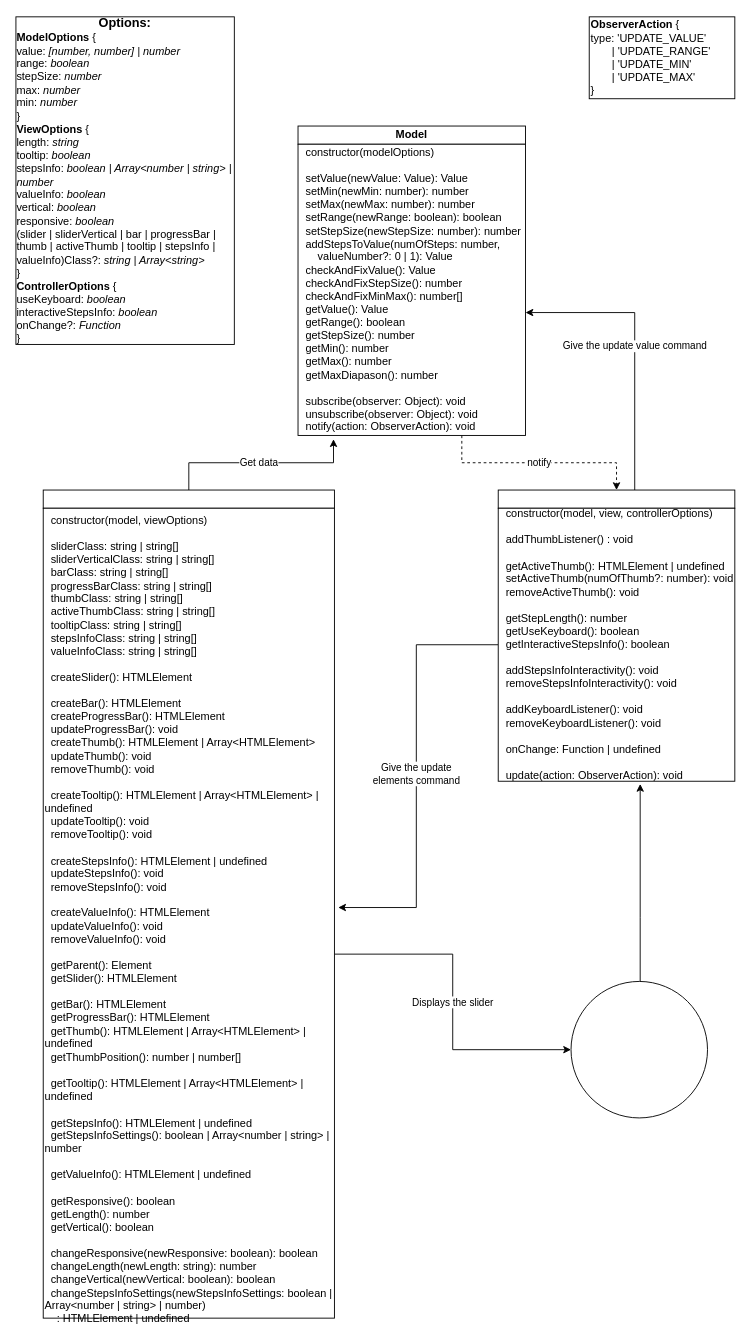
Some shapes in this 751 by 1341 pixel diagram are drawn without their labels. The shapes that lost their labels are listed below. From the top down, each one's centre as x and y in pixels, then its label:
At pixel 188 498: "View".
At pixel 616 498: "Controller".
At pixel 639 1049: "User".
